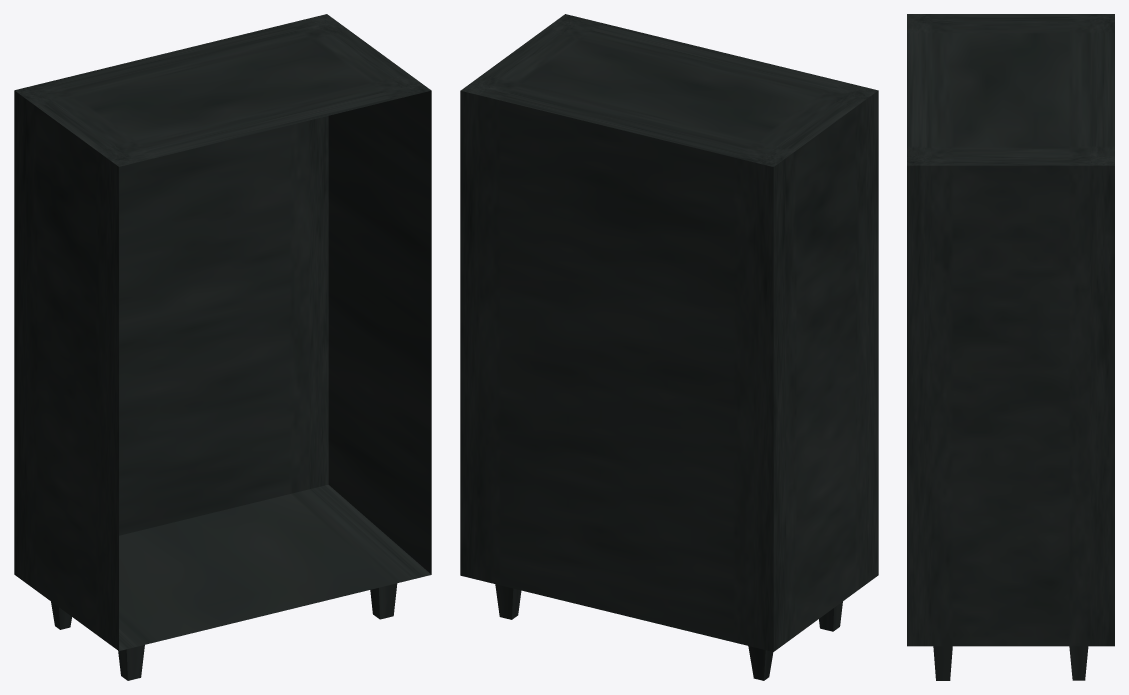
Rendered from closet.fbx.
The picture shows the model from 3 angles, left to right: view 1: azimuth 30°, elevation 25°; view 2: azimuth 150°, elevation 25°; view 3: azimuth 270°, elevation 25°; orthographic projection.
Parts seen in each view (by area): view 1: Cube; view 2: Cube; view 3: Cube.
Part boxes in pixels (x1,y1,x2,y2): Cube: [14, 14, 431, 680]; Cube: [460, 14, 878, 680]; Cube: [907, 14, 1114, 680].
Size of the model in its own units: 135 by 219 by 78.36.
Materials: 1 (1 with a texture image).
